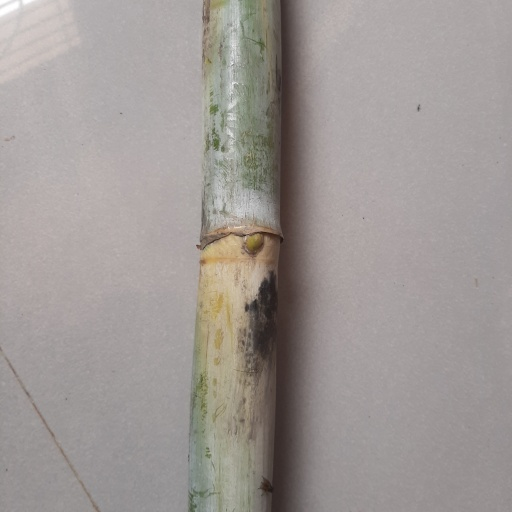Bud: (243, 231, 265, 256)
